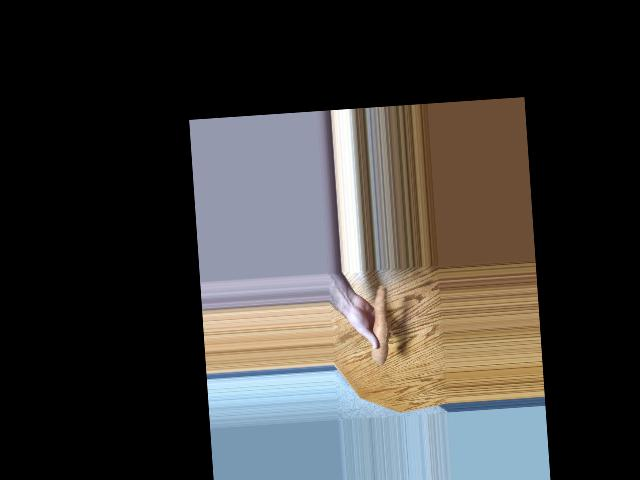sweet_potato: (369, 281, 393, 363)
